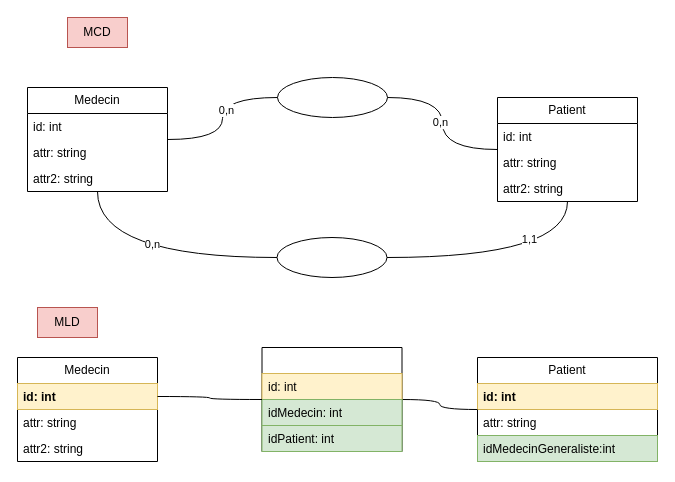
This 675x482 diagram has some shape labels left out. Here are the shapes that lost their labels. From the top down, the box of each, then its label:
(276, 76, 388, 118): traite
(276, 236, 387, 278): est generaliste
(261, 346, 402, 452): MedecinPatient
